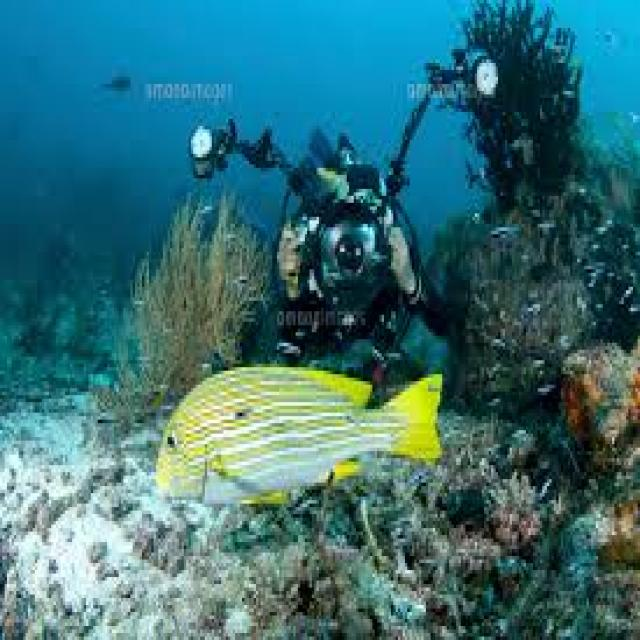RibbonedSweetlips: (151, 356, 447, 511)
